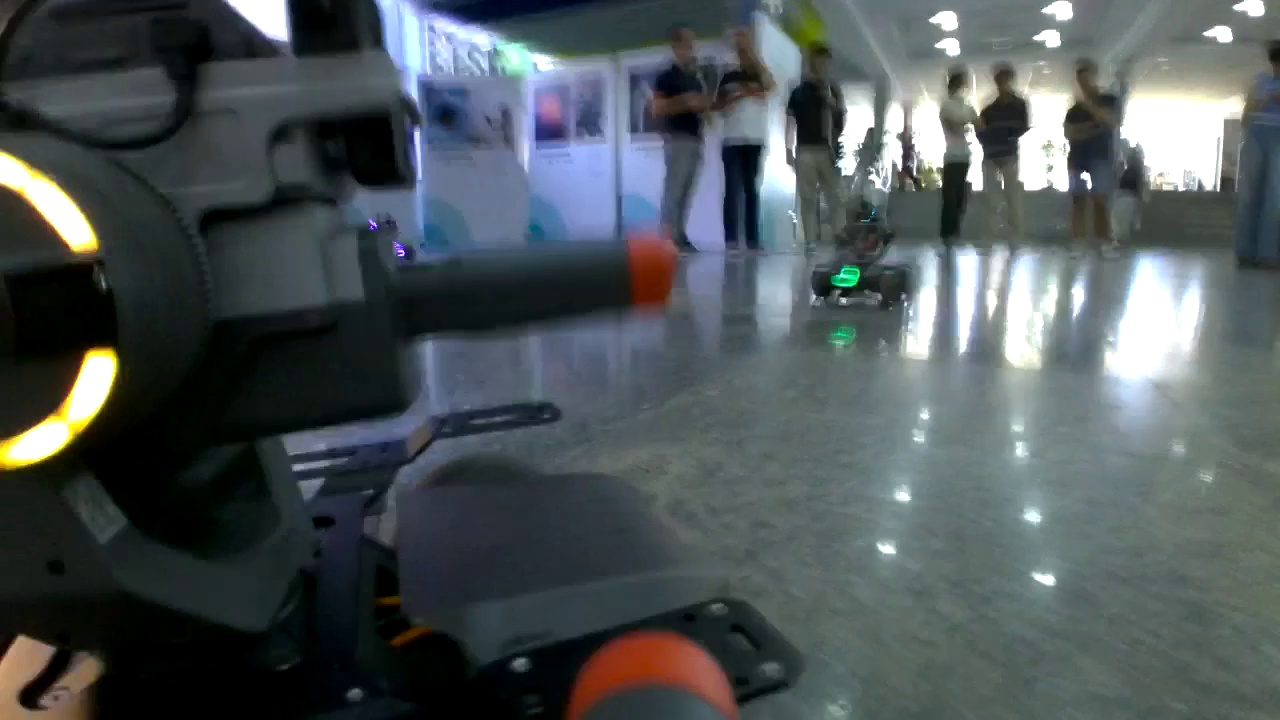robot: (1, 1, 806, 720), (811, 199, 915, 309)
